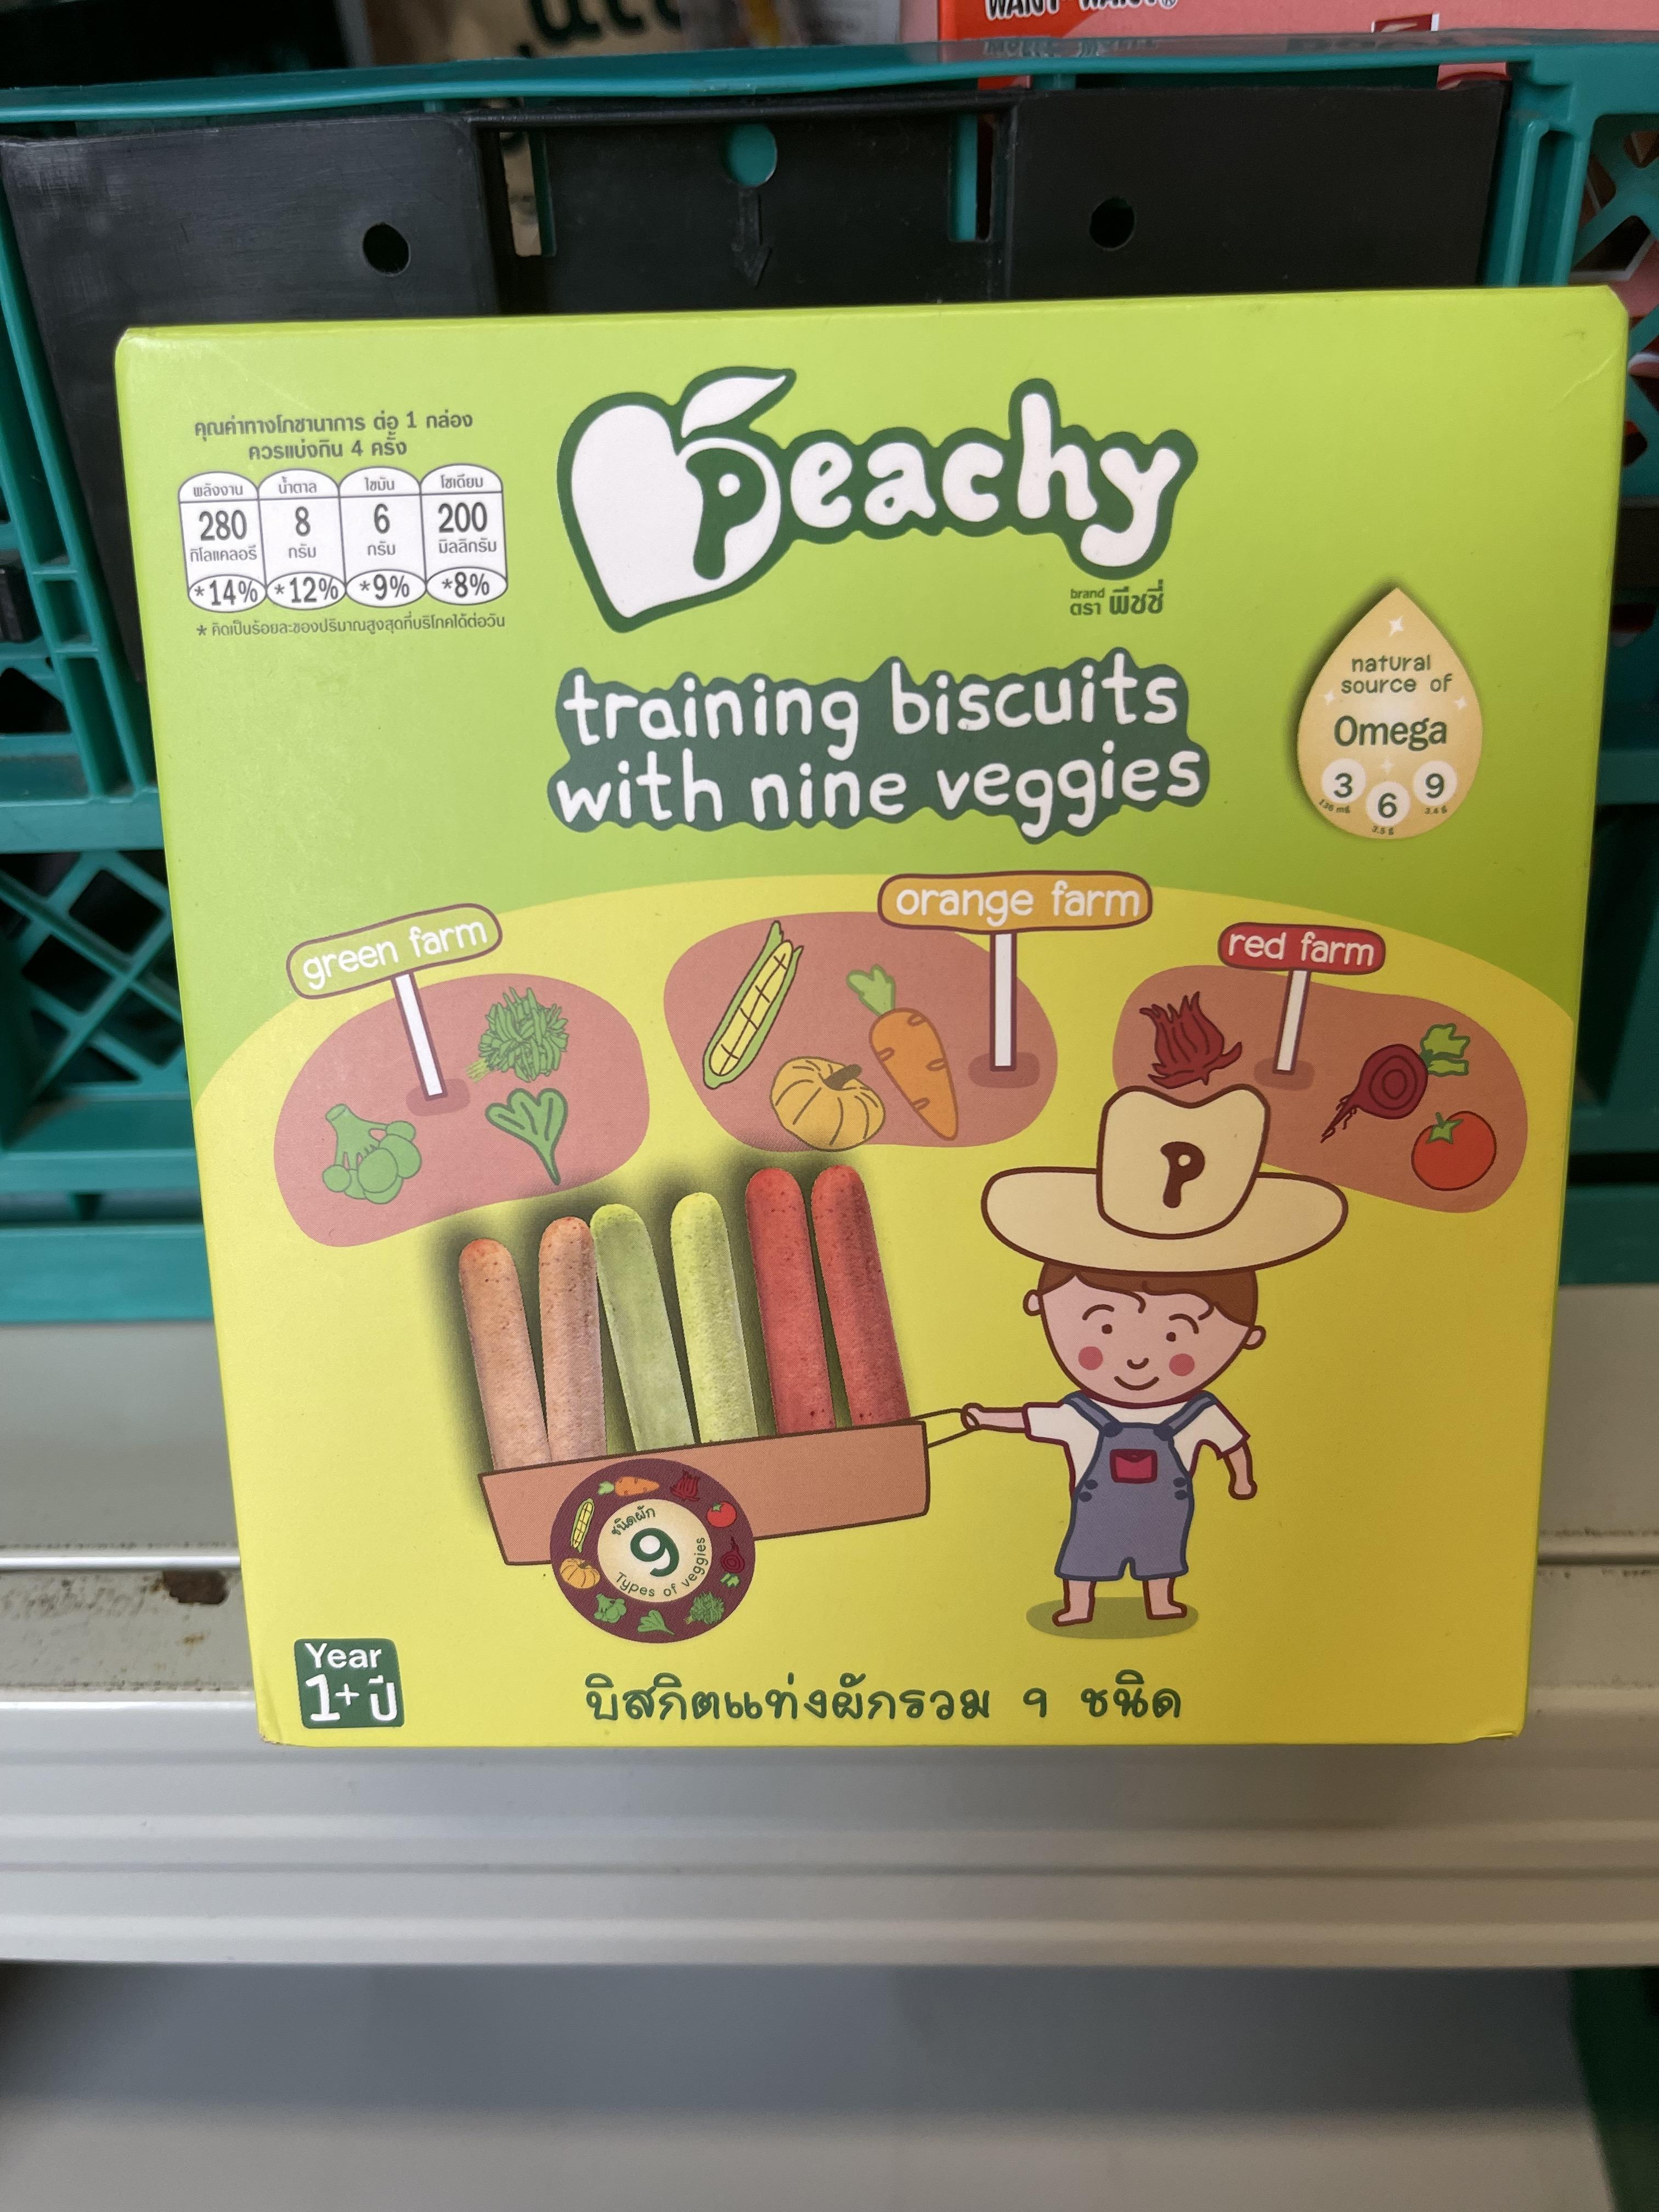object_name: (192, 273, 1640, 1743)
